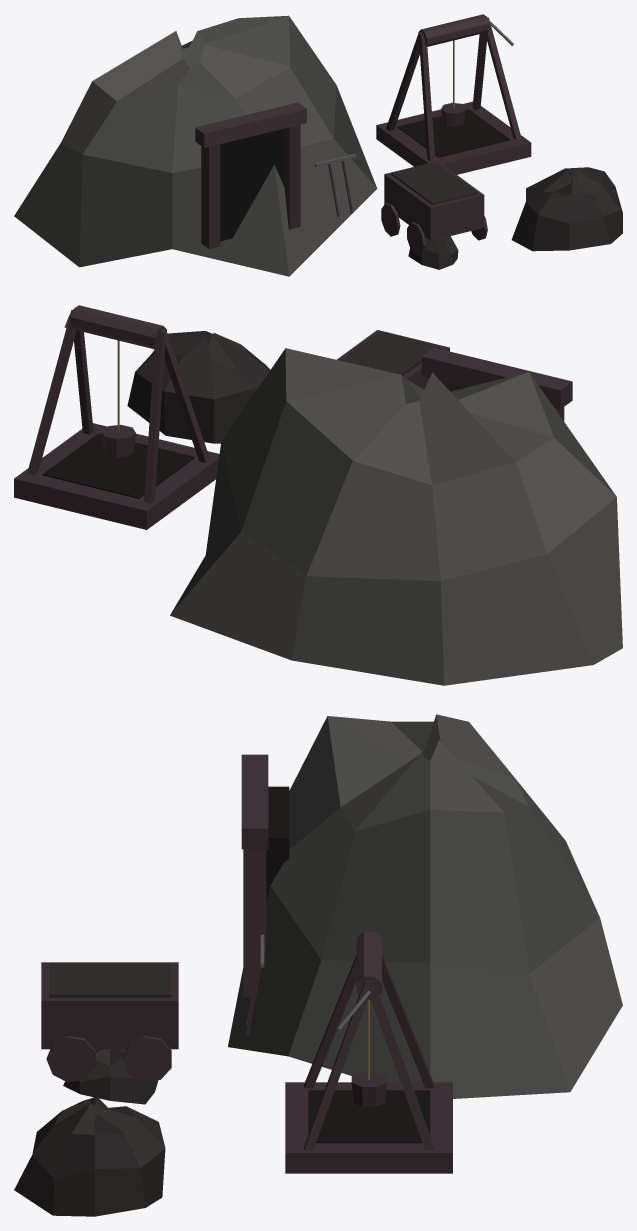
Rendered from walk_hive_mine.glb.
The picture shows the model from 3 angles, top to bottom: view 1: azimuth 30°, elevation 25°; view 2: azimuth 150°, elevation 25°; view 3: azimuth 270°, elevation 25°; orthographic projection. The views are drawn at different scales.
Visible parts, largest first — view 1: walk_hive_mine; view 2: walk_hive_mine; view 3: walk_hive_mine.
Part boxes in pixels (x1,y1,x2,y2): walk_hive_mine: (14, 14, 622, 276); walk_hive_mine: (14, 305, 622, 685); walk_hive_mine: (14, 714, 622, 1216).
Size of what is drawn, in the model's own units: 10.55 by 4.37 by 7.99.
Materials: 2 (2 with a texture image).
